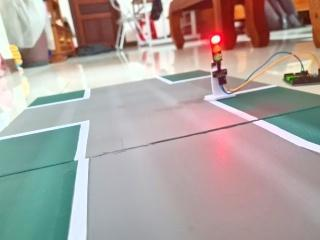red: (201, 29, 233, 74)
